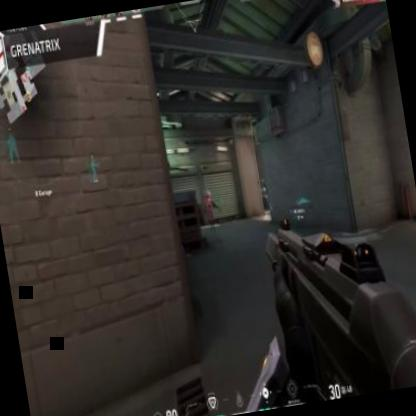enemy: (203, 187, 216, 229)
enemy_head: (206, 190, 211, 197)
